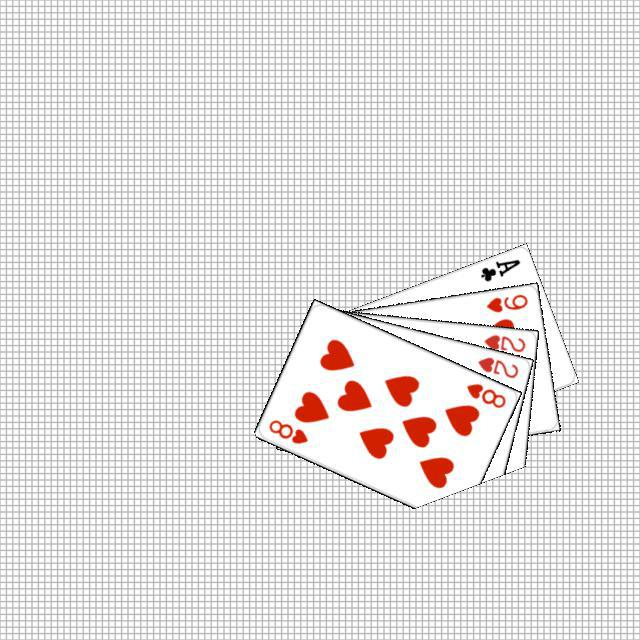2h: (473, 352, 520, 380), (479, 330, 527, 354)
8h: (461, 378, 508, 410), (264, 415, 310, 446)
9h: (481, 289, 529, 314)
Ac: (475, 254, 522, 283)
